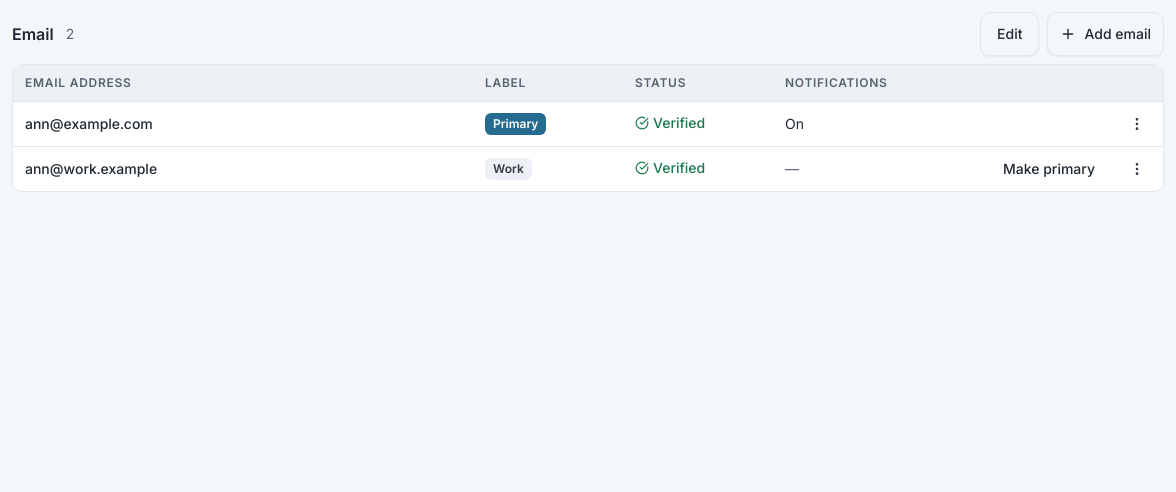
EmailSection: Make primary eligibility (Story 3.6) › Not offered in edit view (a new row included)
Click the button "Add email" at [1106, 34], box [1048,12,1164,56]
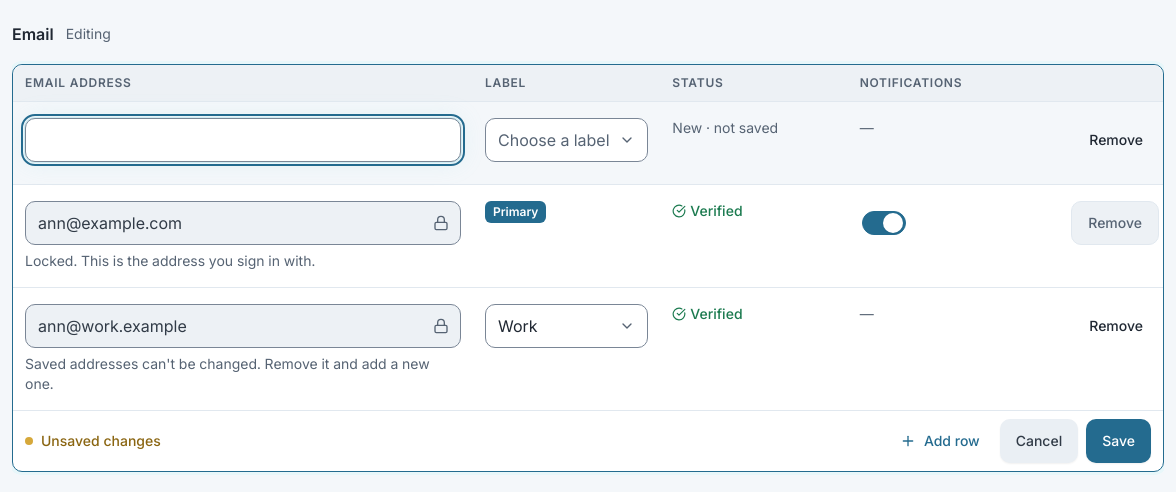
expect the button "Make primary" is gone: met
